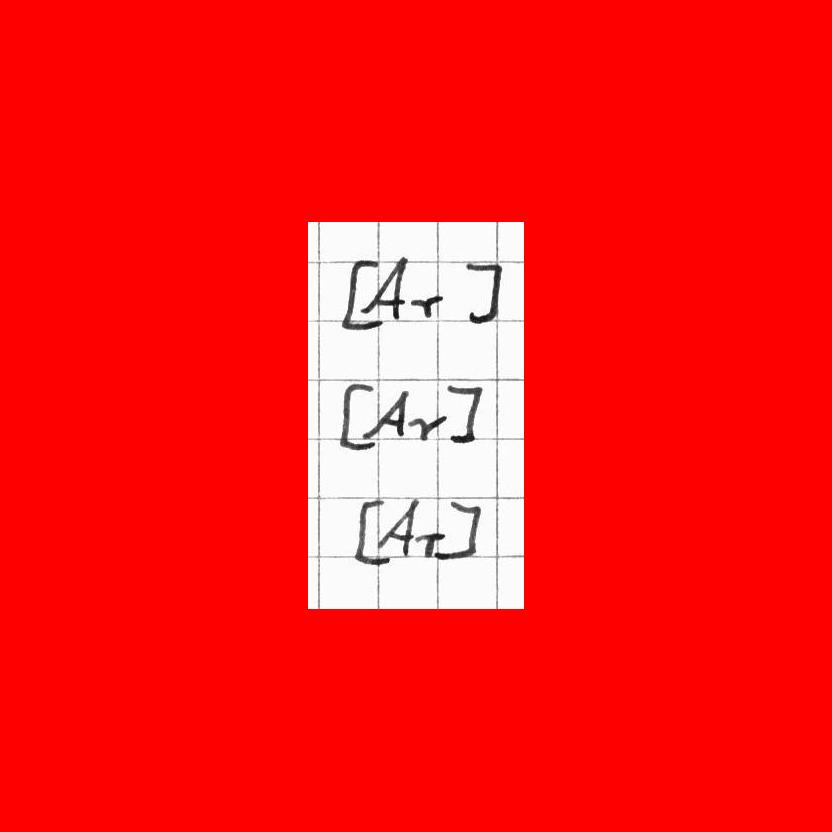Char: (333, 255, 385, 331), (357, 254, 408, 321), (337, 379, 376, 453), (352, 496, 390, 566), (462, 260, 502, 325), (376, 498, 419, 556), (444, 381, 482, 445), (361, 390, 408, 441), (446, 499, 482, 563), (405, 413, 447, 442), (407, 293, 444, 319), (413, 531, 446, 559)
